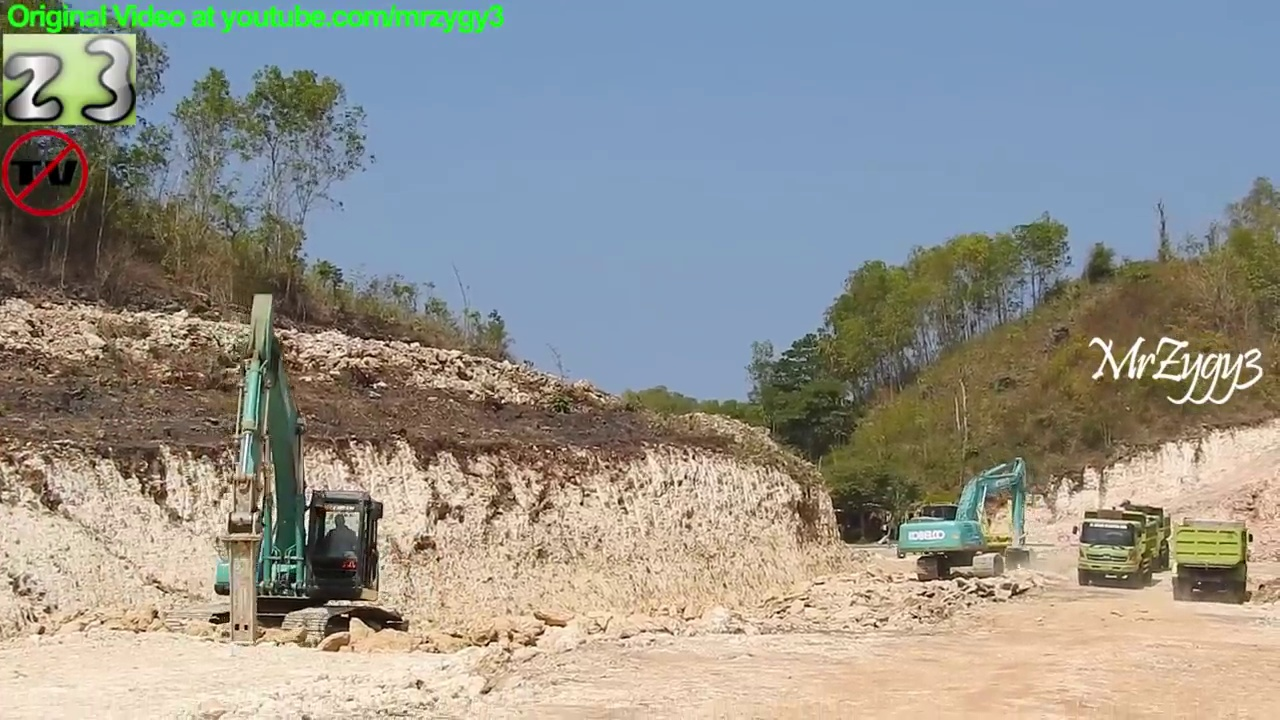excavator: (893, 452, 1043, 582)
excavator breaker: (157, 288, 415, 654)
truck: (1168, 514, 1255, 606), (1071, 505, 1162, 589), (1082, 499, 1174, 578)
